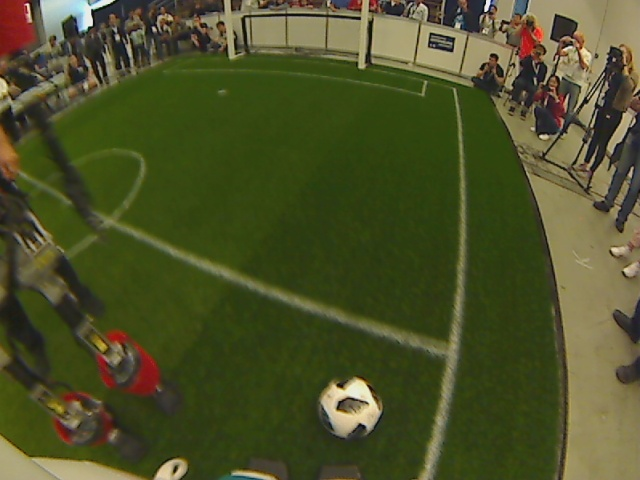ball: (315, 376, 384, 442)
